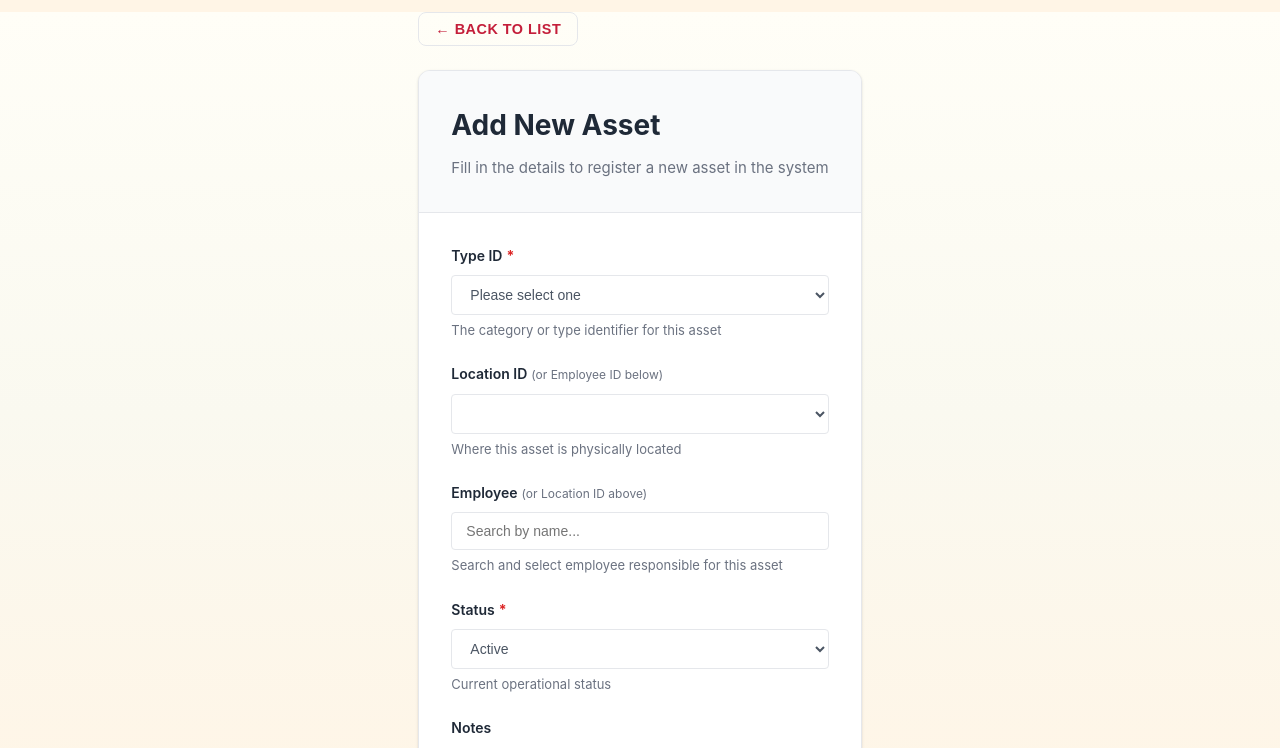
Test: AssetAddView › searches employees by employee ID
This screenshot has width=1280, height=748.
Type "101" into the field with id "employee_search" at (640, 531), box [451, 512, 829, 550]
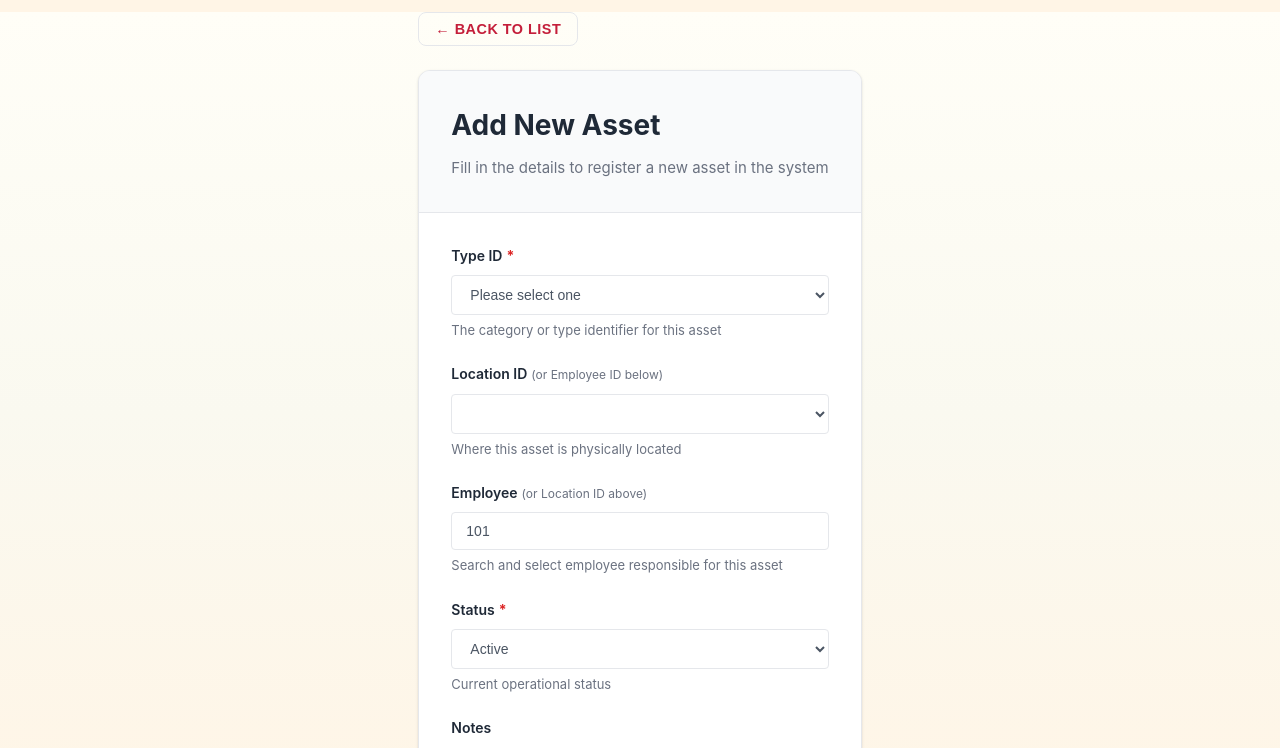
Focus the field with id "employee_search" at (640, 531), box [451, 512, 829, 550]
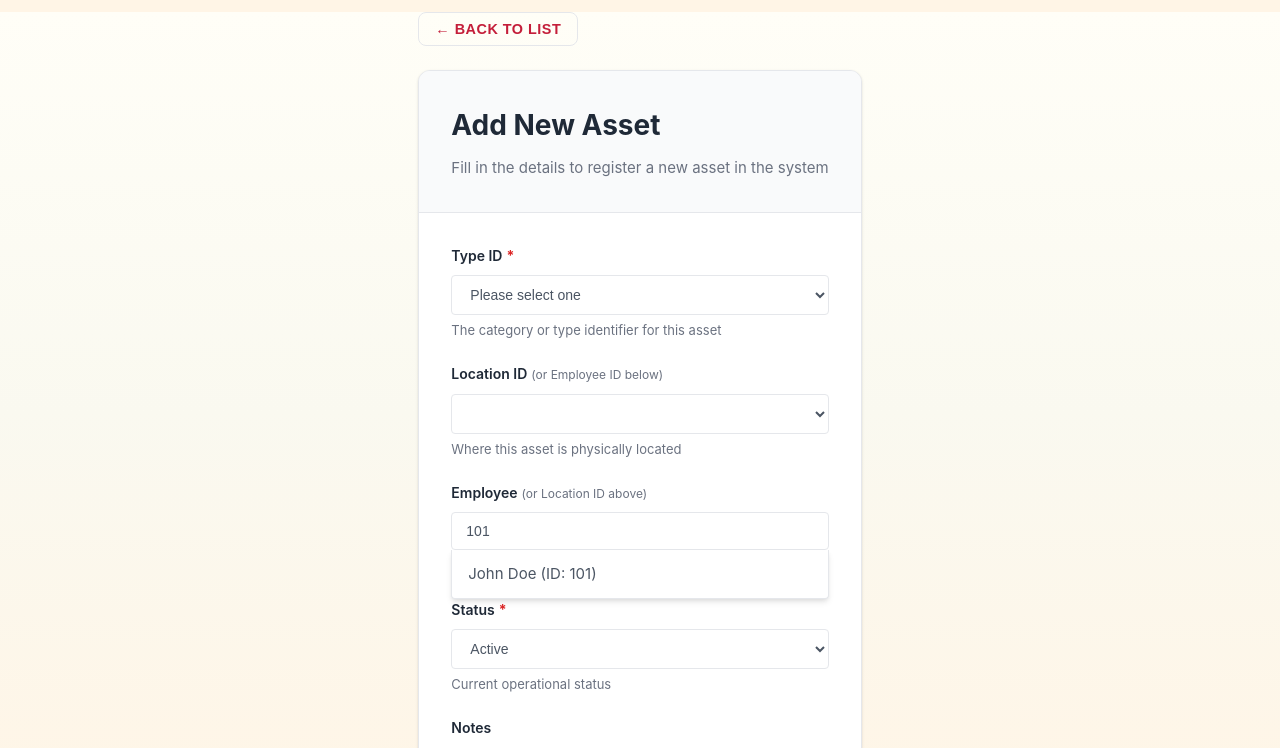
Now the text "John Doe (ID: 101)" is shown, box [468, 564, 597, 583]
